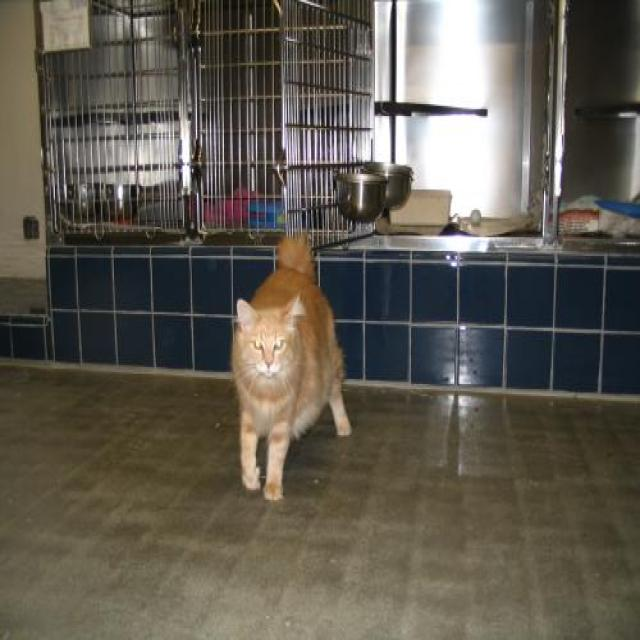Cats: (229, 232, 351, 500)
